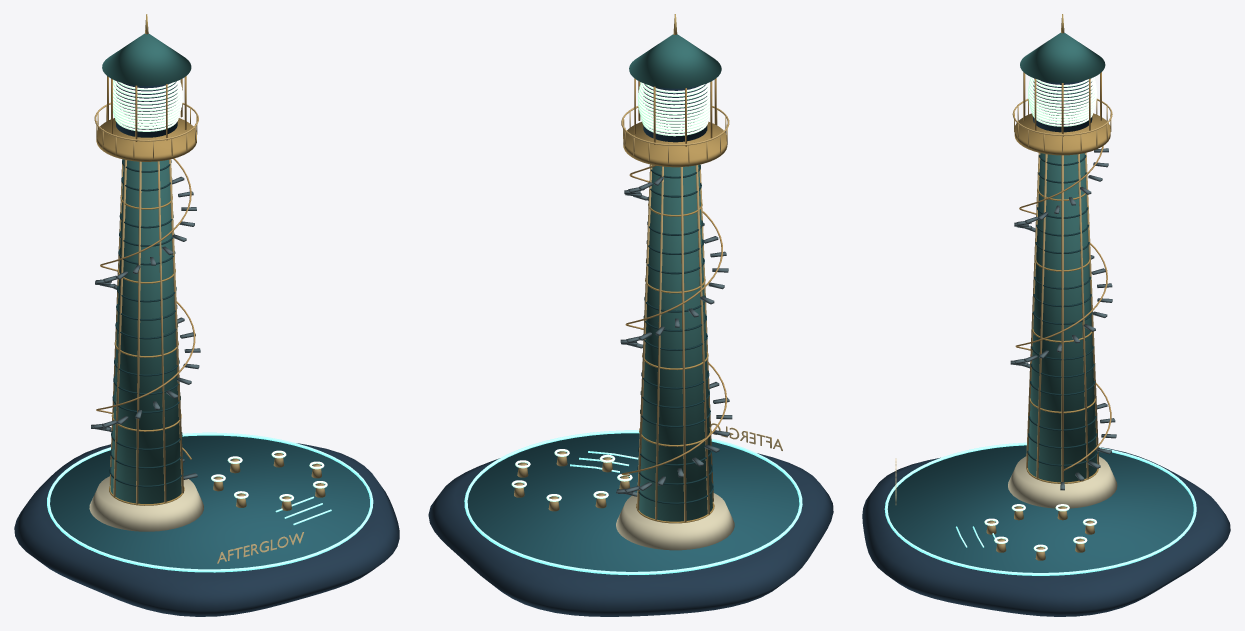
Rendered from afterglow-lighthouse.glb.
3 views of the same model, side by side, from view 1: azimuth 30°, elevation 25°; view 2: azimuth 150°, elevation 25°; view 3: azimuth 270°, elevation 25° (orthographic). The views are drawn at different scales.
Visible parts, largest first — view 1: Afterglow Lighthouse Harbour; view 2: Afterglow Lighthouse Harbour; view 3: Afterglow Lighthouse Harbour.
Part boxes in pixels (x1=…): Afterglow Lighthouse Harbour: x1=14, y1=14, x2=399, y2=616; Afterglow Lighthouse Harbour: x1=428, y1=14, x2=833, y2=616; Afterglow Lighthouse Harbour: x1=862, y1=14, x2=1230, y2=616.
Size of the model in its own units: 11.03 by 16.56 by 10.94.
